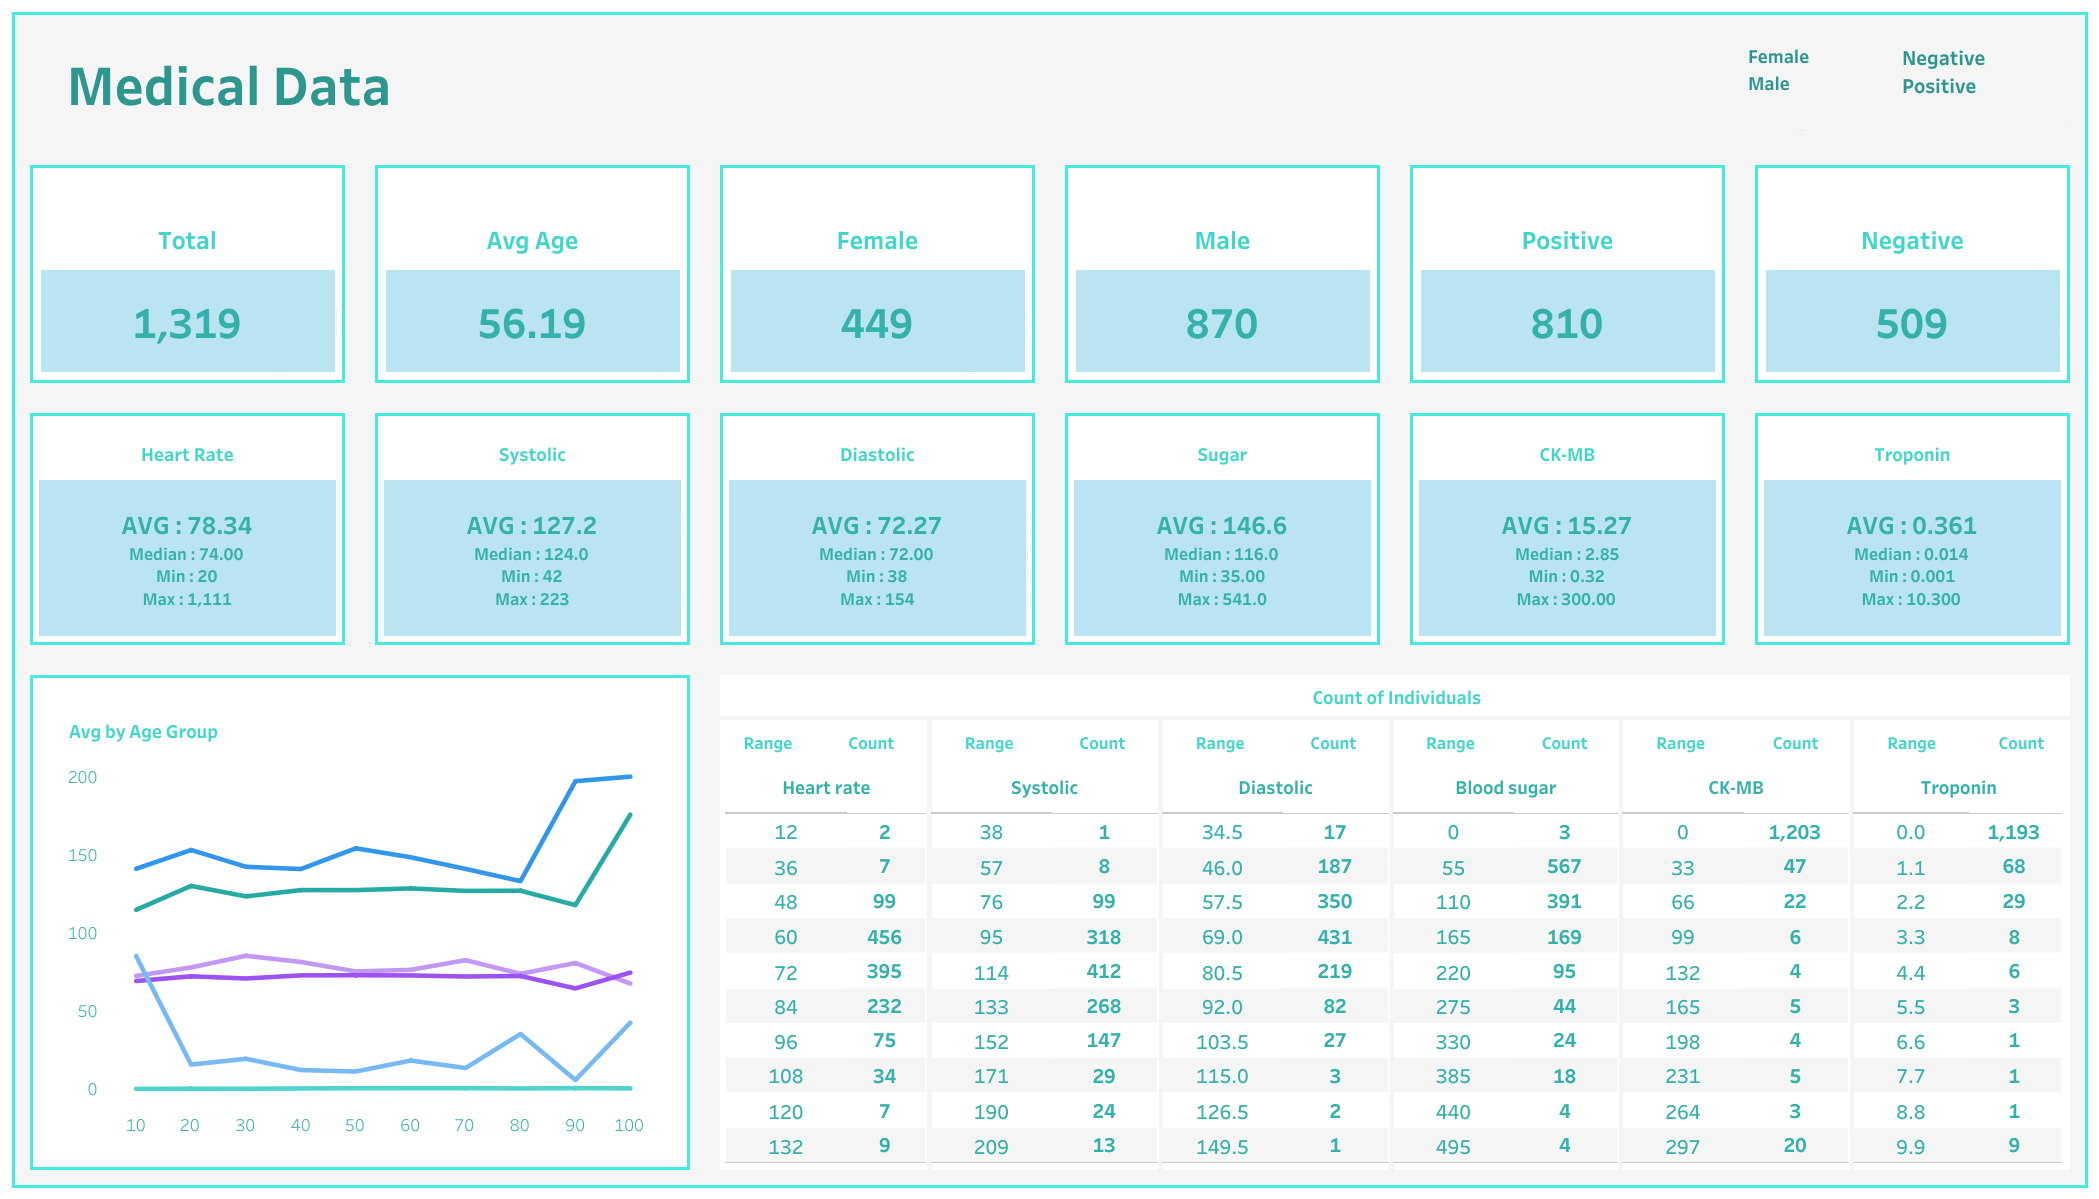

The dashboard page shown, as its layout file describes it:
{"tool":"tableau","page":{"name":"Dashboard 1","canvas":[1400,800],"ordinal":0},"visuals":[{"type":"text","box":[10,10,1139.3,79.9]},{"type":"worksheet","title":"Gender","mark":"Automatic","box":[1149.3,10,99.8,79.9]},{"type":"worksheet","title":"Result","mark":"Text","box":[1249.2,10,140.8,79.9]},{"type":"worksheet","title":"Total","mark":"Automatic","box":[10,89.9,230,175]},{"type":"worksheet","title":"Avg Age","mark":"Automatic","box":[240,89.9,230,175]},{"type":"worksheet","title":"Female","mark":"Automatic","box":[470,89.9,230,175]},{"type":"worksheet","title":"Male","mark":"Automatic","box":[700,89.9,230,175]},{"type":"worksheet","title":"Positive","mark":"Automatic","box":[930,89.9,230,175]},{"type":"worksheet","title":"Negative","mark":"Automatic","box":[1160,89.9,230,175]},{"type":"worksheet","title":"Heart Rate","mark":"Automatic","box":[10,265,230,175]},{"type":"worksheet","title":"Systolic","mark":"Automatic","box":[240,265,230,175]},{"type":"worksheet","title":"Diastolic","mark":"Automatic","box":[470,265,230,175]},{"type":"worksheet","title":"Sugar","mark":"Automatic","box":[700,265,230,175]},{"type":"worksheet","title":"CK-MB","mark":"Automatic","box":[930,265,230,175]},{"type":"worksheet","title":"Troponin","mark":"Automatic","box":[1160,265,230,175]},{"type":"worksheet","title":"Avg by Age Group","mark":"Line","cols":["Age (bin)"],"box":[10,440,460.3,350]},{"type":"text","box":[470.3,440,919.7,37.2]},{"type":"text","box":[470.3,477.2,73.7,31.7]},{"type":"text","box":[543.9,477.2,76.9,31.7]},{"type":"text","box":[620.9,477.2,76.9,31.7]},{"type":"text","box":[697.8,477.2,76.9,31.7]},{"type":"text","box":[774.7,477.2,76.9,31.7]},{"type":"text","box":[851.6,477.2,76.9,31.7]},{"type":"text","box":[928.5,477.2,76.9,31.7]},{"type":"text","box":[1005.4,477.2,76.9,31.7]},{"type":"text","box":[1082.3,477.2,76.9,31.7]},{"type":"text","box":[1159.2,477.2,76.9,31.7]},{"type":"text","box":[1236.1,477.2,76.9,31.7]},{"type":"text","box":[1313.1,477.2,76.9,31.7]},{"type":"worksheet","title":"Heart rate","mark":"Automatic","rows":["Heart rate (bin)"],"box":[470.3,508.9,150.6,281.1]},{"type":"worksheet","title":"Systolic ","mark":"Automatic","rows":["Systolic blood pressure (bin)"],"box":[620.9,508.9,153.8,281.1]},{"type":"worksheet","title":"Diastolic ","mark":"Automatic","rows":["Diastolic blood pressure (bin)"],"box":[774.7,508.9,153.8,281.1]},{"type":"worksheet","title":"Blood sugar","mark":"Automatic","rows":["Blood sugar (bin)"],"box":[928.5,508.9,153.8,281.1]},{"type":"worksheet","title":"CK-MB ","mark":"Automatic","rows":["Ck-Mb (bin)"],"box":[1082.3,508.9,153.8,281.1]},{"type":"worksheet","title":"Troponin ","mark":"Automatic","rows":["Troponin (bin)"],"box":[1236.1,508.9,153.9,281.1]}]}

Visuals, with their boxes in screenshot pixels (x1, y1, x2, y2), scaled from the page's 1400x800 canvas onto the 2099x1199 screenshot:
text: 15,15,1723,135
"Gender" worksheet: 1723,15,1873,135
"Result" worksheet (Text marks): 1873,15,2084,135
"Total" worksheet: 15,135,360,397
"Avg Age" worksheet: 360,135,705,397
"Female" worksheet: 705,135,1050,397
"Male" worksheet: 1050,135,1394,397
"Positive" worksheet: 1394,135,1739,397
"Negative" worksheet: 1739,135,2084,397
"Heart Rate" worksheet: 15,397,360,659
"Systolic" worksheet: 360,397,705,659
"Diastolic" worksheet: 705,397,1050,659
"Sugar" worksheet: 1050,397,1394,659
"CK-MB" worksheet: 1394,397,1739,659
"Troponin" worksheet: 1739,397,2084,659
"Avg by Age Group" worksheet (Line marks): 15,659,705,1184
text: 705,659,2084,715
text: 705,715,816,763
text: 815,715,931,763
text: 931,715,1046,763
text: 1046,715,1161,763
text: 1161,715,1277,763
text: 1277,715,1392,763
text: 1392,715,1507,763
text: 1507,715,1623,763
text: 1623,715,1738,763
text: 1738,715,1853,763
text: 1853,715,1969,763
text: 1969,715,2084,763
"Heart rate" worksheet: 705,763,931,1184
"Systolic " worksheet: 931,763,1161,1184
"Diastolic " worksheet: 1161,763,1392,1184
"Blood sugar" worksheet: 1392,763,1623,1184
"CK-MB " worksheet: 1623,763,1853,1184
"Troponin " worksheet: 1853,763,2084,1184
